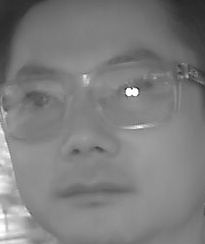glass: (90, 59, 181, 128), (2, 73, 74, 140)
mouth: (55, 177, 133, 210)
